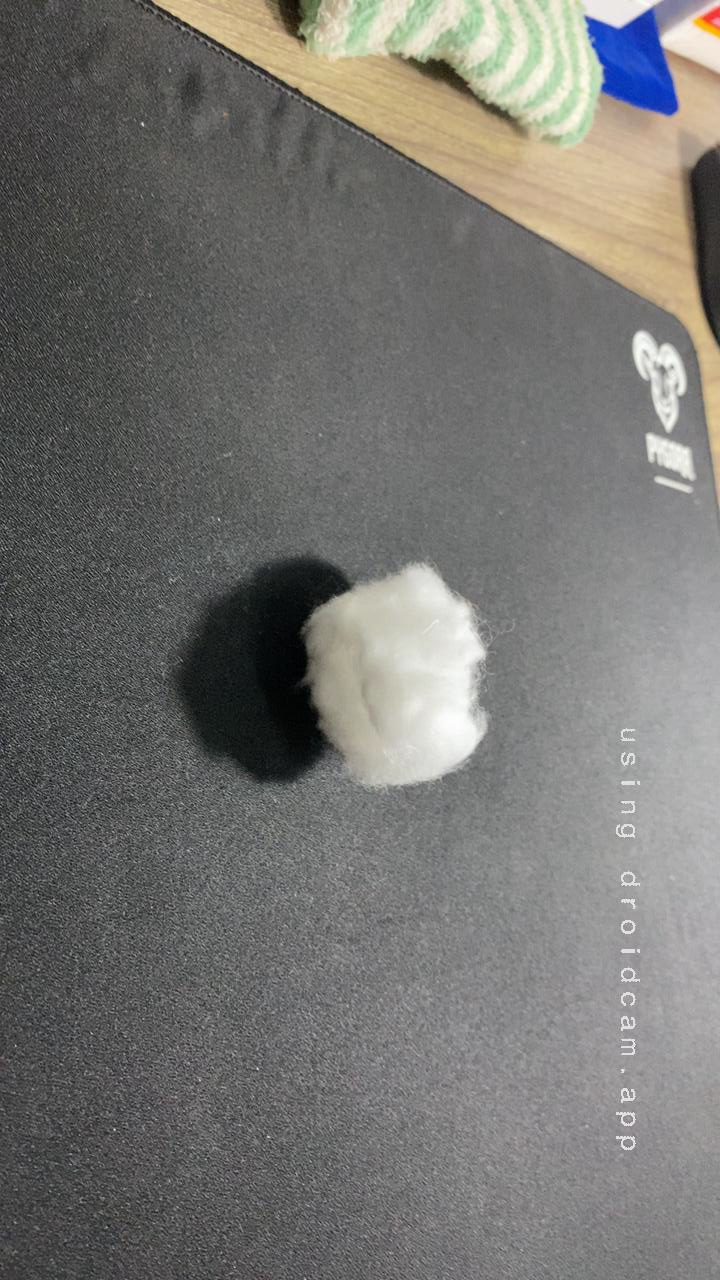cotton: (275, 541, 522, 809)
